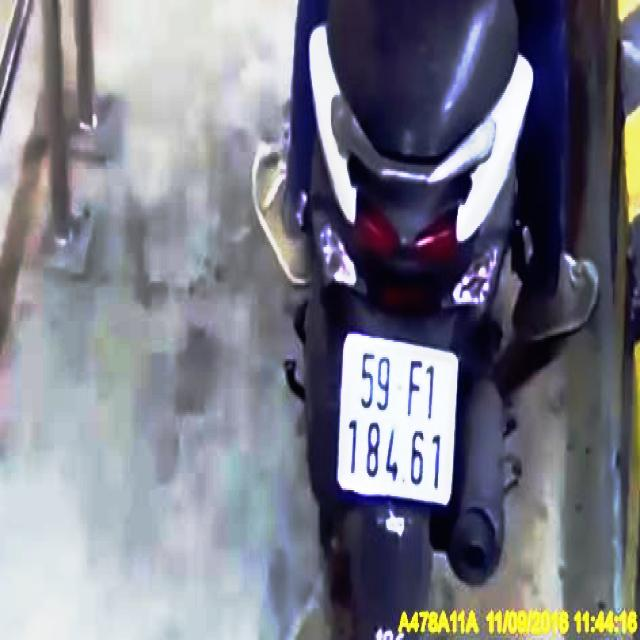license_plate: (340, 339, 455, 503)
